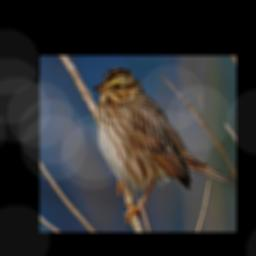Sparrow: (92, 66, 236, 230)
